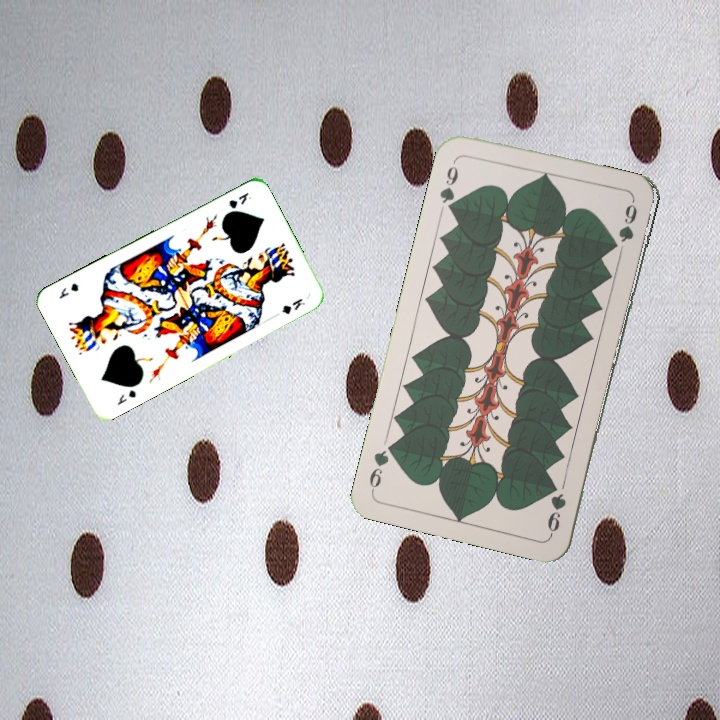G9: (435, 154, 462, 214), (543, 489, 569, 538)
GK: (225, 188, 254, 211), (113, 385, 139, 408)
